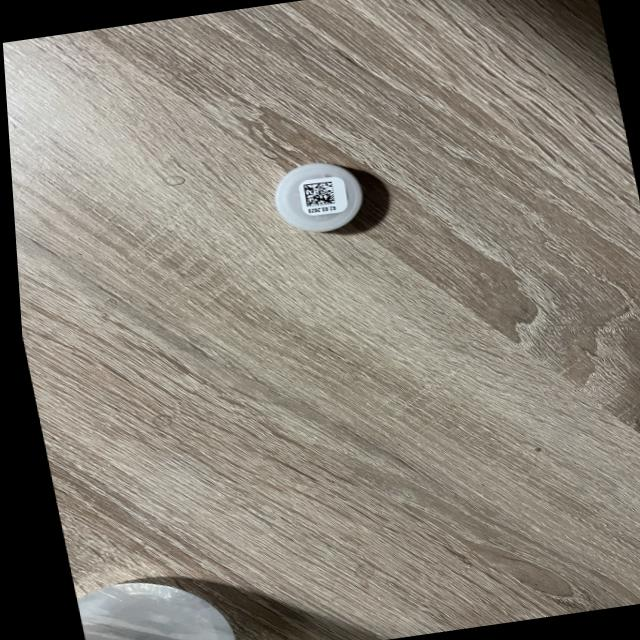datamatrix: (299, 181, 334, 209)
